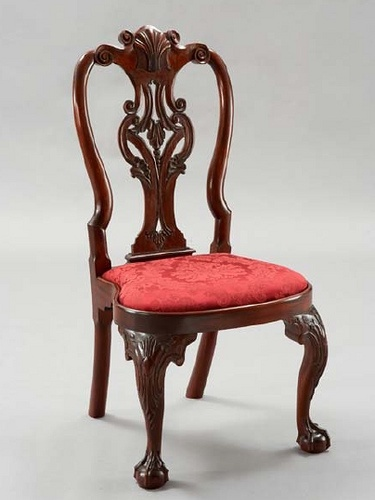obstacle: (73, 26, 329, 488)
